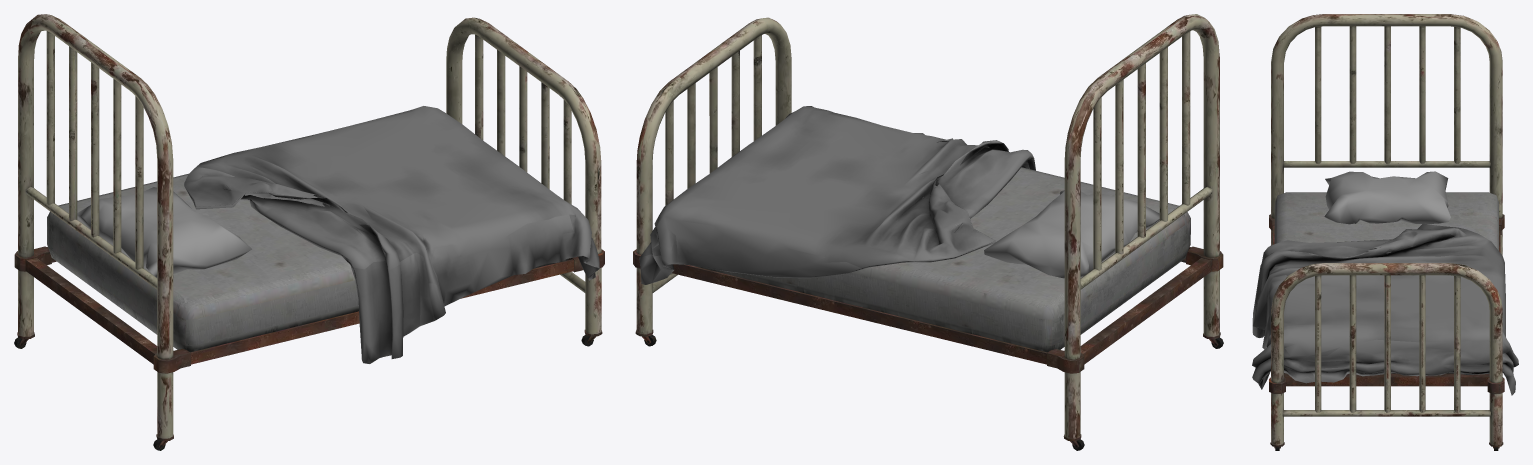
The model's file is prop_hospital_bed.glb.
3 renders of one model, left to right at view 1: azimuth 30°, elevation 25°; view 2: azimuth 150°, elevation 25°; view 3: azimuth 270°, elevation 25°, orthographic. The views are drawn at different scales.
Parts seen in each view (by area): view 1: low_Pillow_1; view 2: low_Pillow_1; view 3: low_Pillow_1.
Part boxes in pixels (x1=…): low_Pillow_1: x1=14, y1=14, x2=604, y2=450; low_Pillow_1: x1=633, y1=14, x2=1223, y2=450; low_Pillow_1: x1=1252, y1=14, x2=1518, y2=450.
Bounding box in the file's own units: 187 × 139 × 123.
3 materials, 2 textured.
